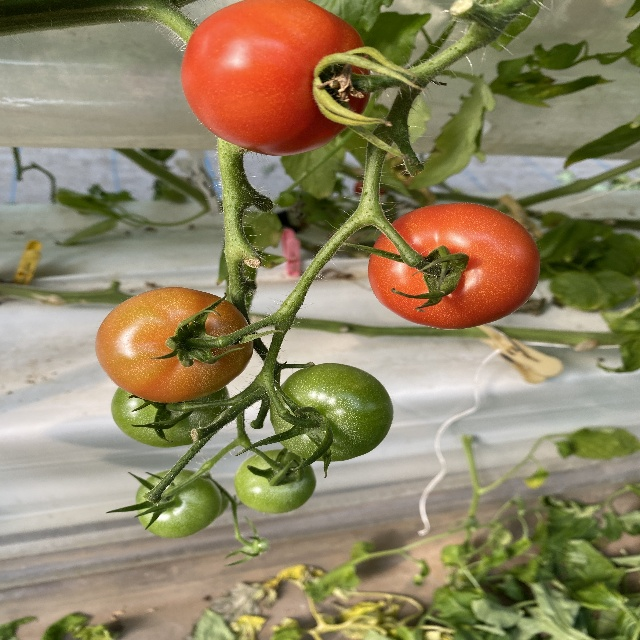l_fully_ripened: (180, 0, 373, 157), (367, 202, 541, 329)
l_green: (270, 363, 394, 462), (111, 385, 231, 448), (136, 469, 223, 537), (235, 450, 316, 515)
l_half_ripened: (94, 287, 253, 403)
